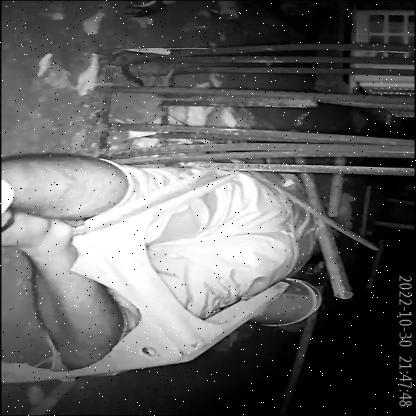leg: (4, 211, 123, 369)
